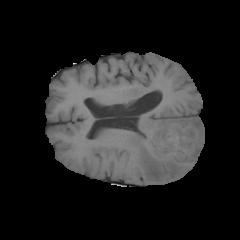glioma: (132, 118, 202, 182)
